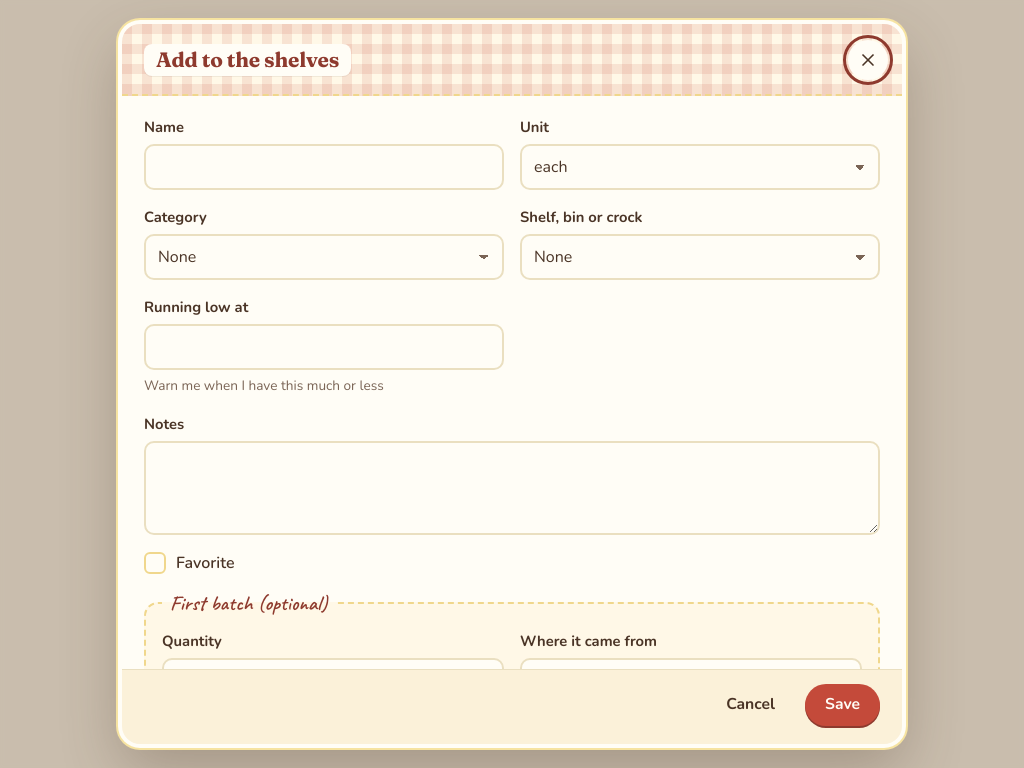
Test case: asks for a quantity when other first-batch fields are filled, and does not submit
This screenshot has width=1024, height=768.
Type "Pickles" into the field labelled "Name" at (324, 167), box left=144, top=144, right=504, bottom=190
(page scrolled)
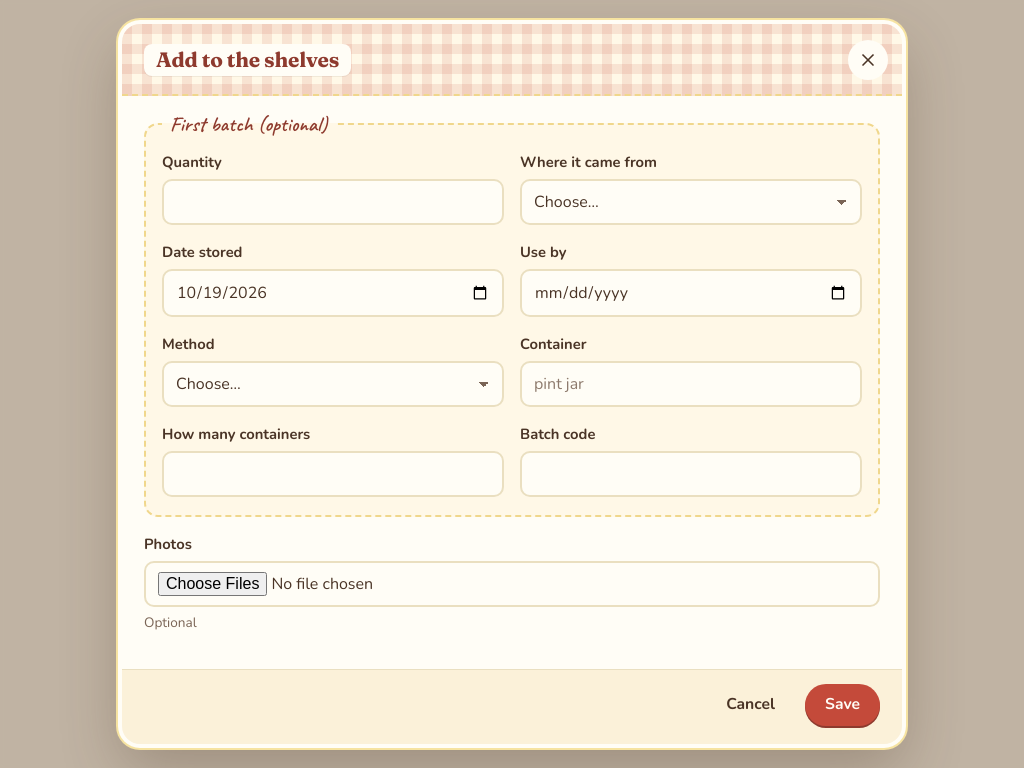
Type "A1" into the field labelled "Batch code" at (691, 474), box left=520, top=451, right=862, bottom=497
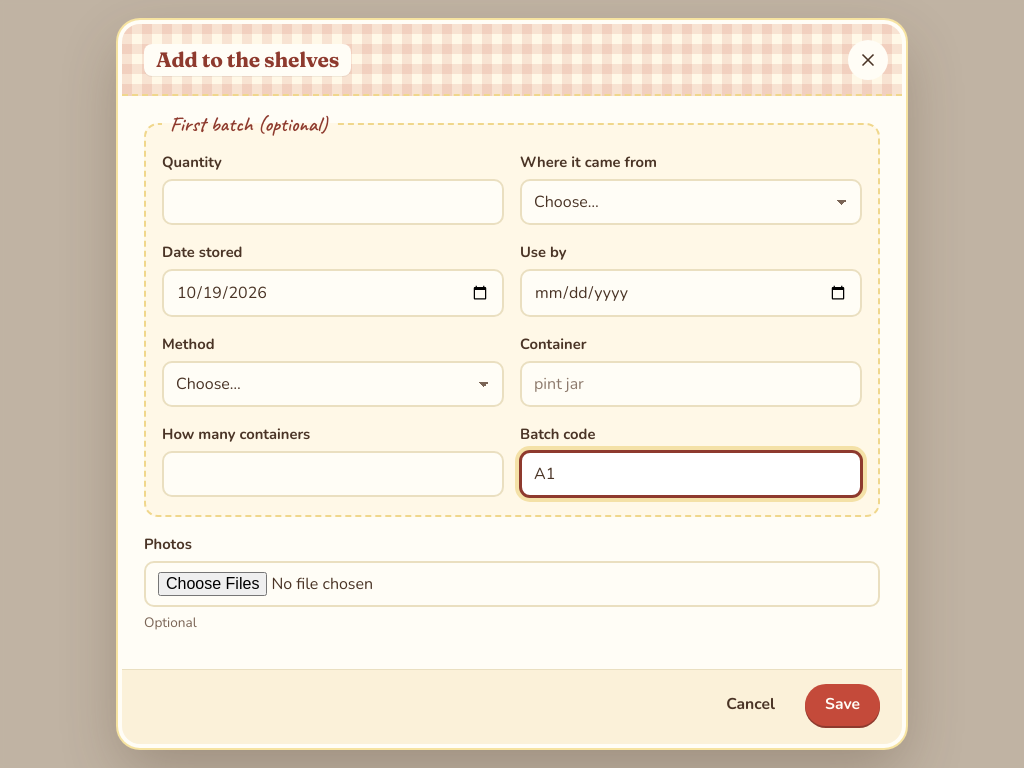
Click the button "Save" at (842, 705), box left=805, top=684, right=880, bottom=726
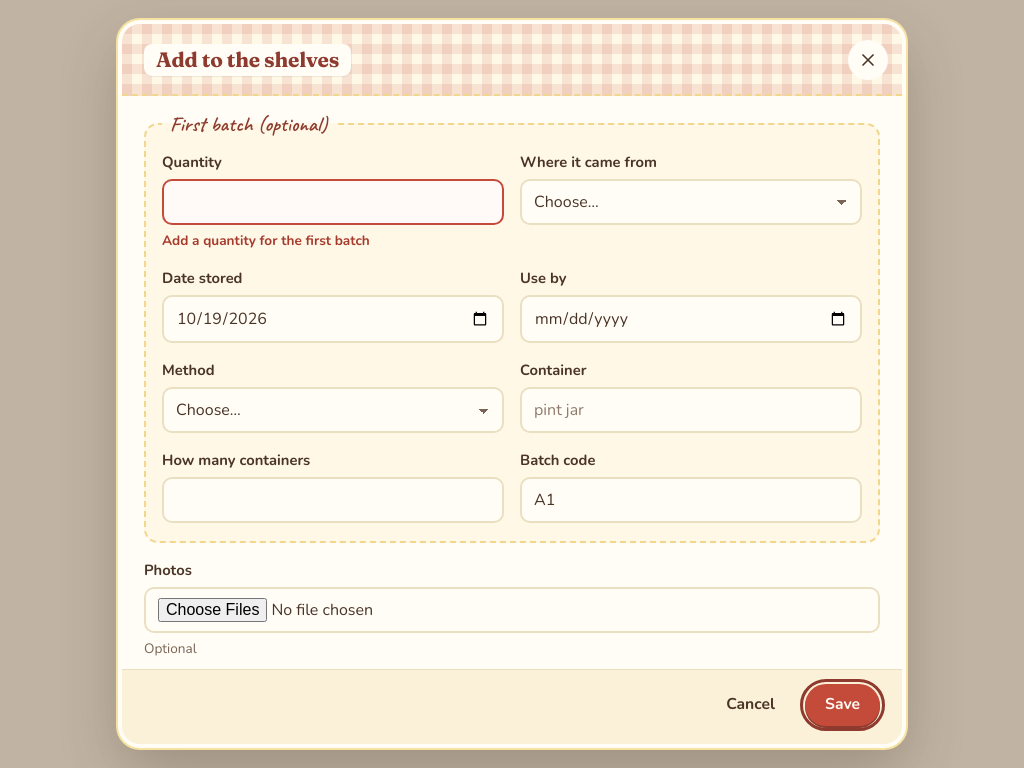
Expected: the text "Add a quantity for the first batch" is shown, left=162, top=231, right=370, bottom=250
